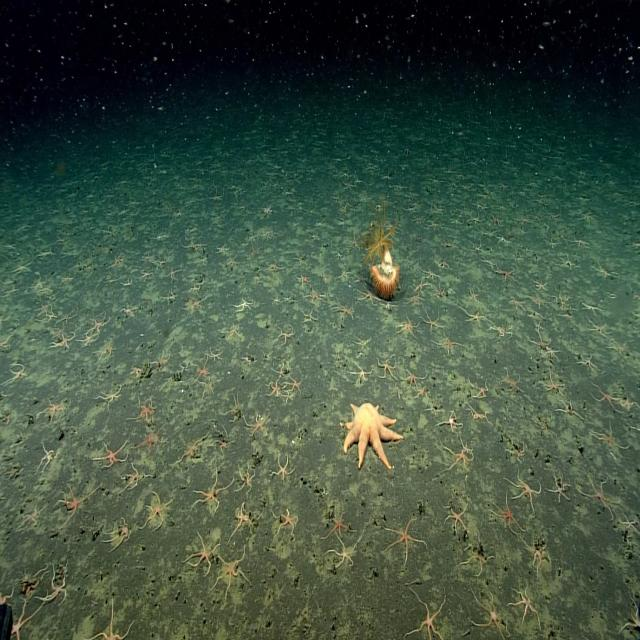brittle-stars: (406, 591, 446, 640), (472, 590, 508, 638), (383, 518, 422, 562), (581, 472, 618, 517), (196, 470, 232, 512), (88, 607, 131, 640), (216, 550, 248, 594), (528, 403, 562, 443), (512, 586, 541, 628), (492, 496, 522, 536), (9, 600, 39, 640), (144, 492, 173, 532), (187, 534, 215, 572), (59, 484, 87, 522), (511, 474, 542, 508), (464, 530, 489, 572), (96, 438, 128, 469), (330, 537, 360, 570), (178, 434, 206, 468), (444, 445, 475, 473), (138, 426, 165, 457), (45, 566, 67, 604), (622, 593, 640, 639), (592, 421, 620, 450), (446, 501, 470, 534), (274, 508, 300, 538), (591, 381, 617, 410), (108, 518, 130, 552), (324, 512, 350, 540), (526, 541, 549, 572), (21, 502, 45, 531), (550, 470, 570, 503), (122, 463, 146, 490), (232, 504, 252, 536), (99, 384, 123, 408), (274, 454, 296, 480), (247, 413, 269, 438), (42, 399, 64, 424), (334, 264, 359, 286), (542, 372, 564, 396), (134, 397, 155, 422), (38, 445, 57, 472), (238, 466, 256, 494), (378, 355, 398, 380), (20, 572, 40, 597), (437, 334, 460, 355), (620, 512, 640, 536), (215, 428, 232, 456), (54, 332, 76, 353), (580, 351, 600, 374), (502, 370, 521, 394), (404, 368, 425, 389), (422, 310, 442, 332), (468, 406, 491, 425), (406, 210, 429, 229), (352, 361, 372, 382), (442, 412, 463, 432), (491, 320, 512, 340), (558, 397, 578, 418), (398, 316, 417, 338), (530, 332, 550, 352), (337, 198, 357, 218), (98, 340, 116, 362), (227, 397, 242, 423), (358, 287, 378, 306), (92, 312, 111, 332), (589, 318, 609, 337), (470, 379, 488, 400), (154, 351, 172, 372), (8, 361, 26, 382), (594, 264, 615, 282), (510, 440, 527, 462), (59, 305, 78, 324), (336, 300, 354, 320), (463, 308, 483, 326), (0, 584, 15, 608), (201, 377, 219, 397), (495, 266, 515, 282), (330, 247, 346, 267), (236, 297, 254, 314), (560, 255, 577, 273), (612, 341, 630, 358), (196, 358, 211, 378), (583, 300, 600, 317), (81, 332, 99, 348), (33, 272, 47, 292), (308, 287, 325, 303), (277, 326, 294, 342), (530, 292, 546, 308), (546, 346, 562, 362), (557, 292, 573, 308), (268, 380, 282, 398), (123, 303, 137, 321), (12, 262, 30, 276), (289, 432, 303, 450), (268, 259, 283, 275), (304, 308, 319, 324), (188, 298, 203, 314), (532, 307, 548, 322), (288, 376, 302, 393), (622, 393, 635, 411), (423, 267, 438, 282), (168, 267, 182, 283), (512, 294, 526, 310), (208, 348, 224, 362), (61, 271, 75, 287), (580, 210, 596, 224), (416, 384, 430, 400), (229, 322, 241, 340), (433, 282, 445, 300), (112, 252, 126, 267), (408, 292, 424, 305), (139, 268, 152, 284), (572, 237, 588, 250), (347, 234, 360, 250), (0, 310, 10, 330), (298, 273, 312, 287), (132, 363, 146, 377), (210, 187, 223, 202), (444, 237, 457, 252), (468, 287, 480, 303), (35, 298, 47, 314), (0, 337, 11, 354), (70, 423, 81, 440), (216, 242, 230, 255), (534, 279, 547, 293), (188, 282, 201, 296), (415, 279, 428, 293), (227, 255, 240, 269), (154, 256, 167, 270), (470, 242, 484, 255), (212, 211, 225, 225), (383, 301, 398, 313), (283, 389, 294, 405), (190, 238, 206, 249), (469, 212, 482, 225), (276, 364, 288, 378), (438, 257, 450, 271), (497, 235, 511, 247), (482, 228, 496, 240), (547, 238, 561, 250), (482, 258, 496, 270), (248, 245, 260, 259), (294, 253, 306, 267), (516, 214, 530, 226), (48, 307, 59, 322), (344, 178, 356, 191), (475, 201, 488, 213), (490, 214, 503, 226), (123, 276, 134, 290), (549, 210, 563, 221), (451, 214, 463, 226), (575, 192, 587, 204), (272, 292, 282, 306), (141, 252, 152, 264), (283, 292, 294, 304), (382, 170, 393, 182), (436, 204, 447, 215), (429, 219, 440, 230), (264, 204, 274, 216), (310, 232, 320, 244), (266, 228, 276, 240), (632, 239, 640, 253), (308, 206, 318, 217), (272, 179, 281, 190), (342, 170, 351, 181)
